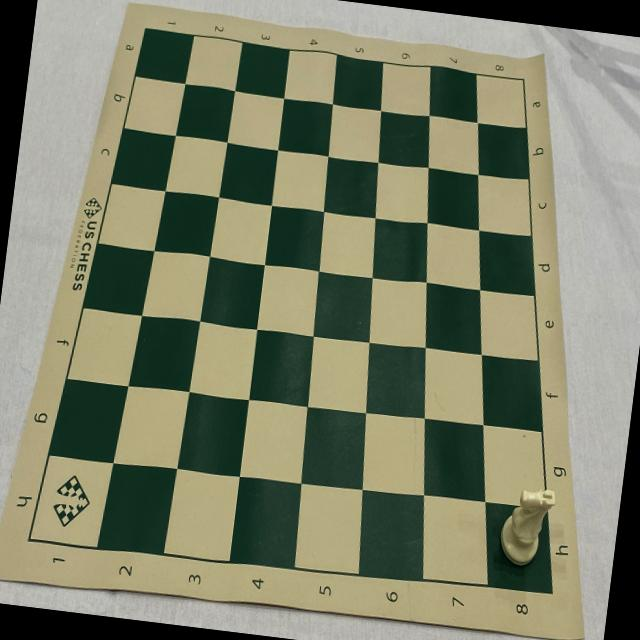white-knight: (496, 483, 558, 570)
